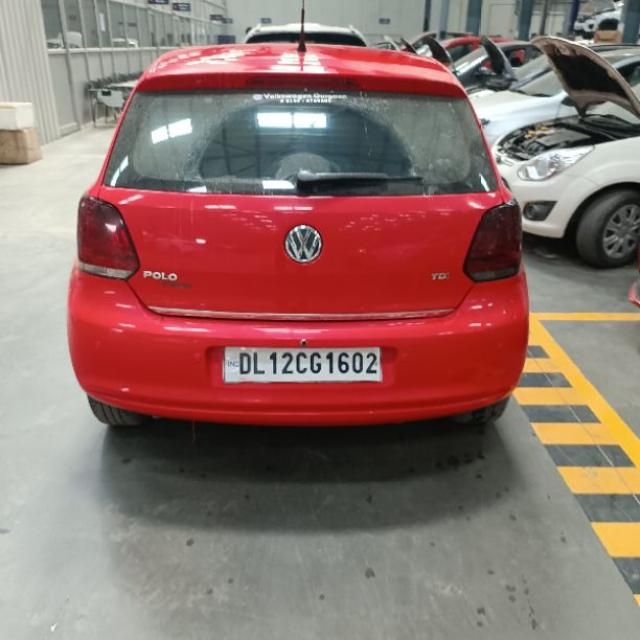license_plate: (220, 344, 382, 384)
